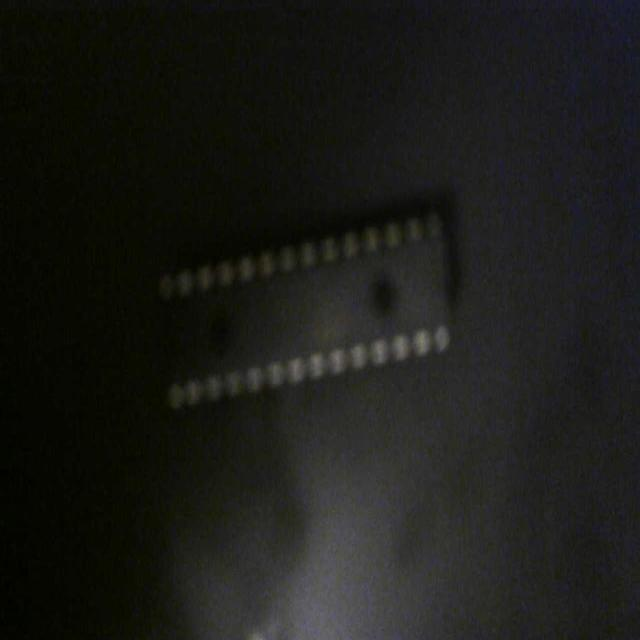atmega: (155, 184, 463, 417)
